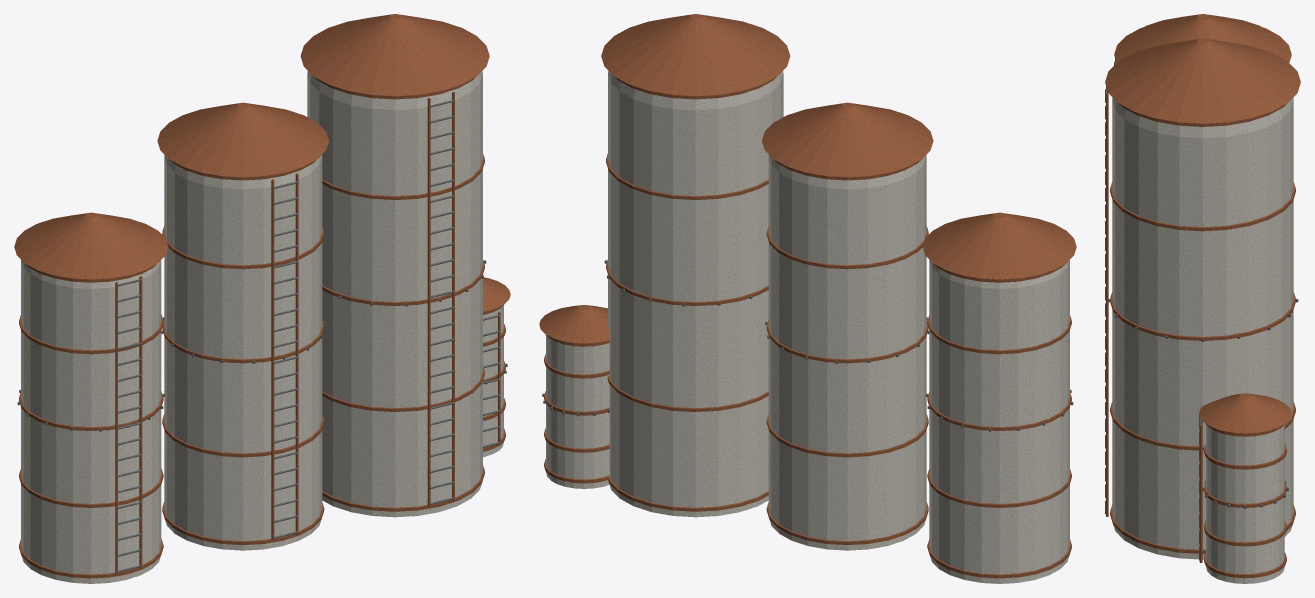
The model's file is GRNTNK2_lod0.glb.
3 renders of one model, left to right at view 1: azimuth 30°, elevation 25°; view 2: azimuth 150°, elevation 25°; view 3: azimuth 270°, elevation 25°, orthographic. The views are drawn at different scales.
Parts seen in each view (by area): view 1: GRNTNK2_LOD0; view 2: GRNTNK2_LOD0; view 3: GRNTNK2_LOD0.
Boxes of the visible parts, x1,y1,x2,y2 form: GRNTNK2_LOD0: (14,14,510,583); GRNTNK2_LOD0: (539,14,1076,583); GRNTNK2_LOD0: (1105,14,1300,583).
Size of the model in its own units: 9.89 by 8.75 by 3.24.
Materials: 3 (3 with a texture image).
